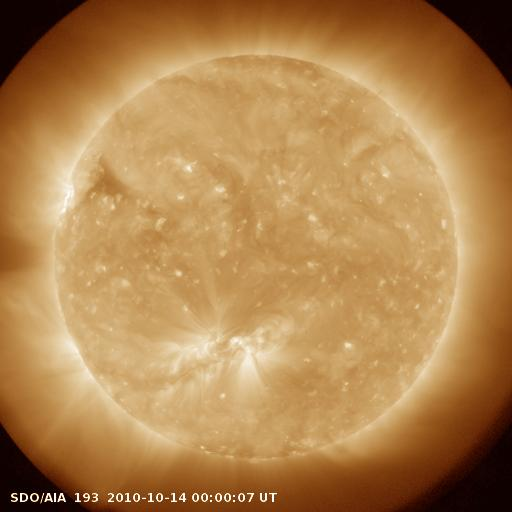coronal_hole: (66, 153, 140, 209)
